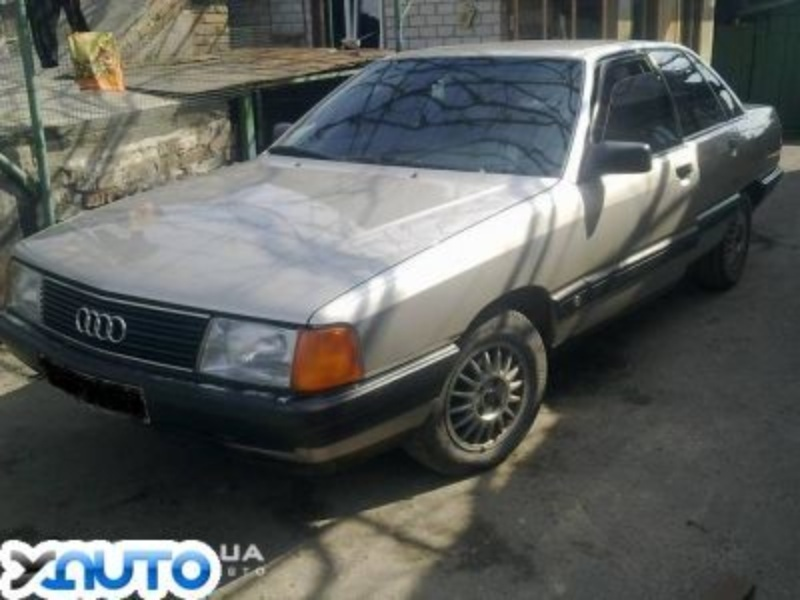normalcar: (49, 70, 660, 494)
